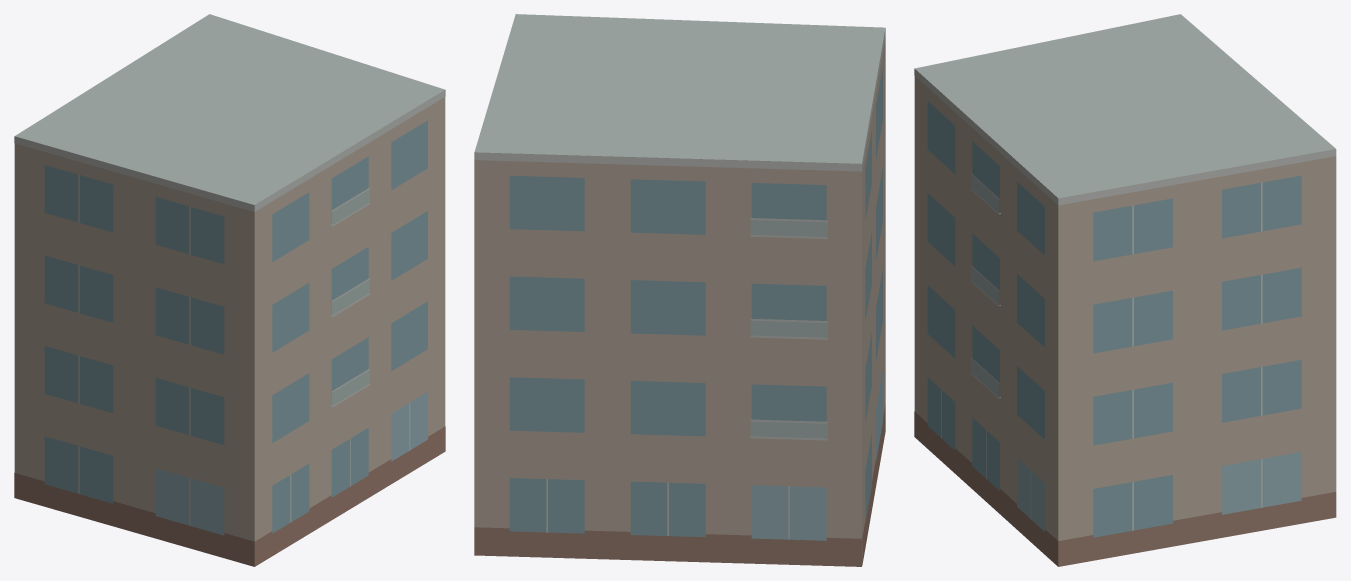
Rendered from survey-upis-32668416.glb.
3 renders of one model, left to right at view 1: azimuth 30°, elevation 25°; view 2: azimuth 150°, elevation 25°; view 3: azimuth 270°, elevation 25°, orthographic. The views are drawn at different scales.
Parts seen in each view (by area): view 1: survey-upis-32668416.tmp; view 2: survey-upis-32668416.tmp; view 3: survey-upis-32668416.tmp.
Part boxes in pixels (bbox=[...]): survey-upis-32668416.tmp: bbox=[14, 14, 445, 566]; survey-upis-32668416.tmp: bbox=[474, 14, 885, 566]; survey-upis-32668416.tmp: bbox=[914, 14, 1336, 566].
Size of the model in its own units: 13.64 by 12.7 by 13.18.
